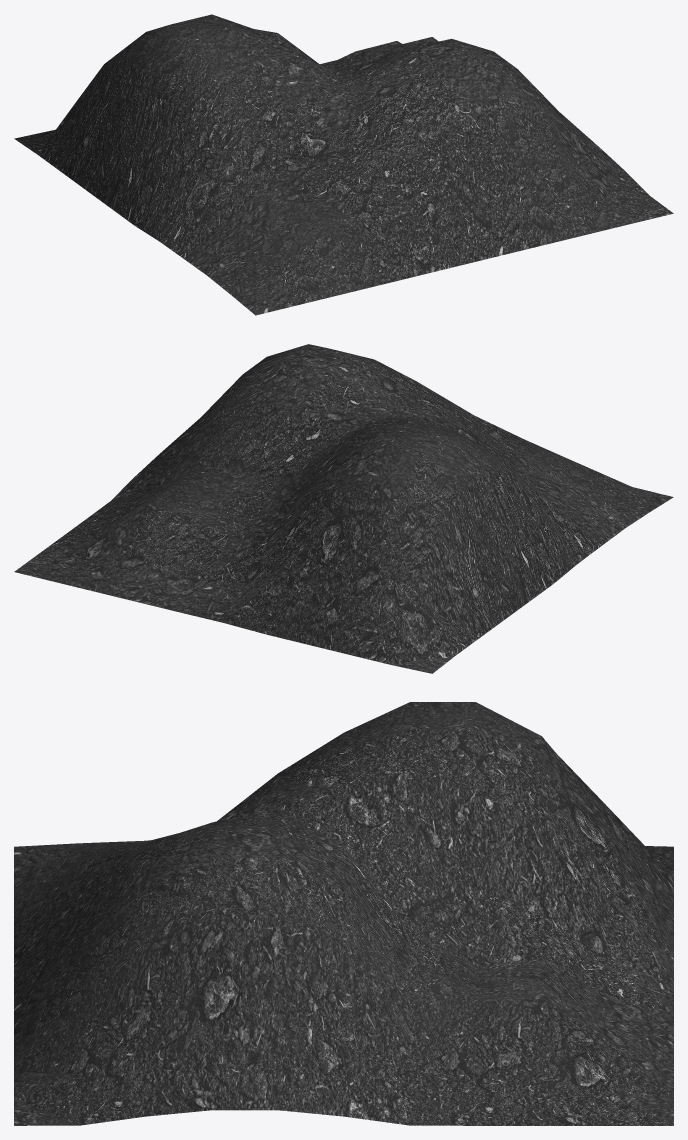
Rendered from coal_.fbx.
3 views of the same model, one above another, from view 1: azimuth 30°, elevation 25°; view 2: azimuth 150°, elevation 25°; view 3: azimuth 270°, elevation 25° (orthographic). The views are drawn at different scales.
Visible parts, largest first — view 1: pPlane3; view 2: pPlane3; view 3: pPlane3.
Boxes of the visible parts, <box> form: pPlane3: <box>14,14,673,315</box>; pPlane3: <box>14,344,673,673</box>; pPlane3: <box>14,702,673,1125</box>.
Size of the model in its own units: 1279 by 432 by 1279.
1 material, 1 textured.
